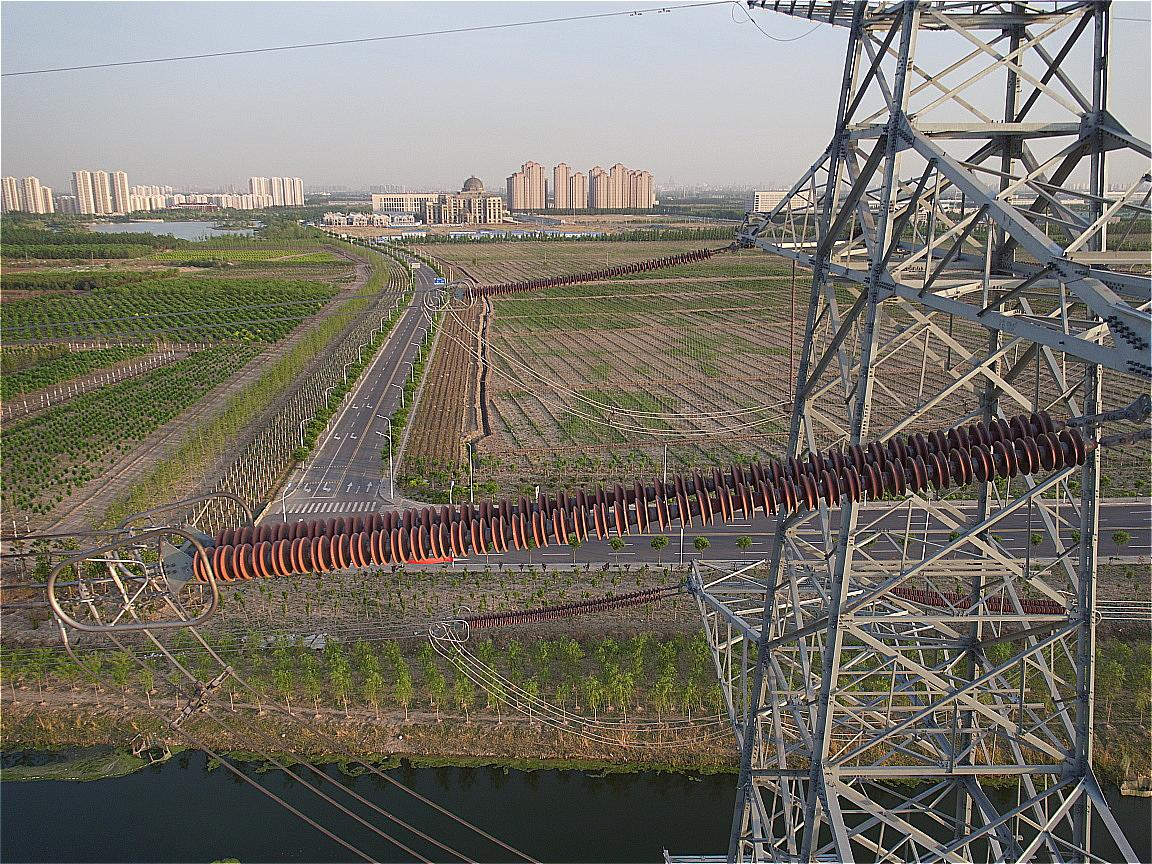insultor2: (190, 411, 1086, 586), (465, 248, 712, 301)
